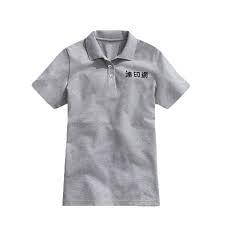C_polo shirt: (32, 36, 185, 204)
